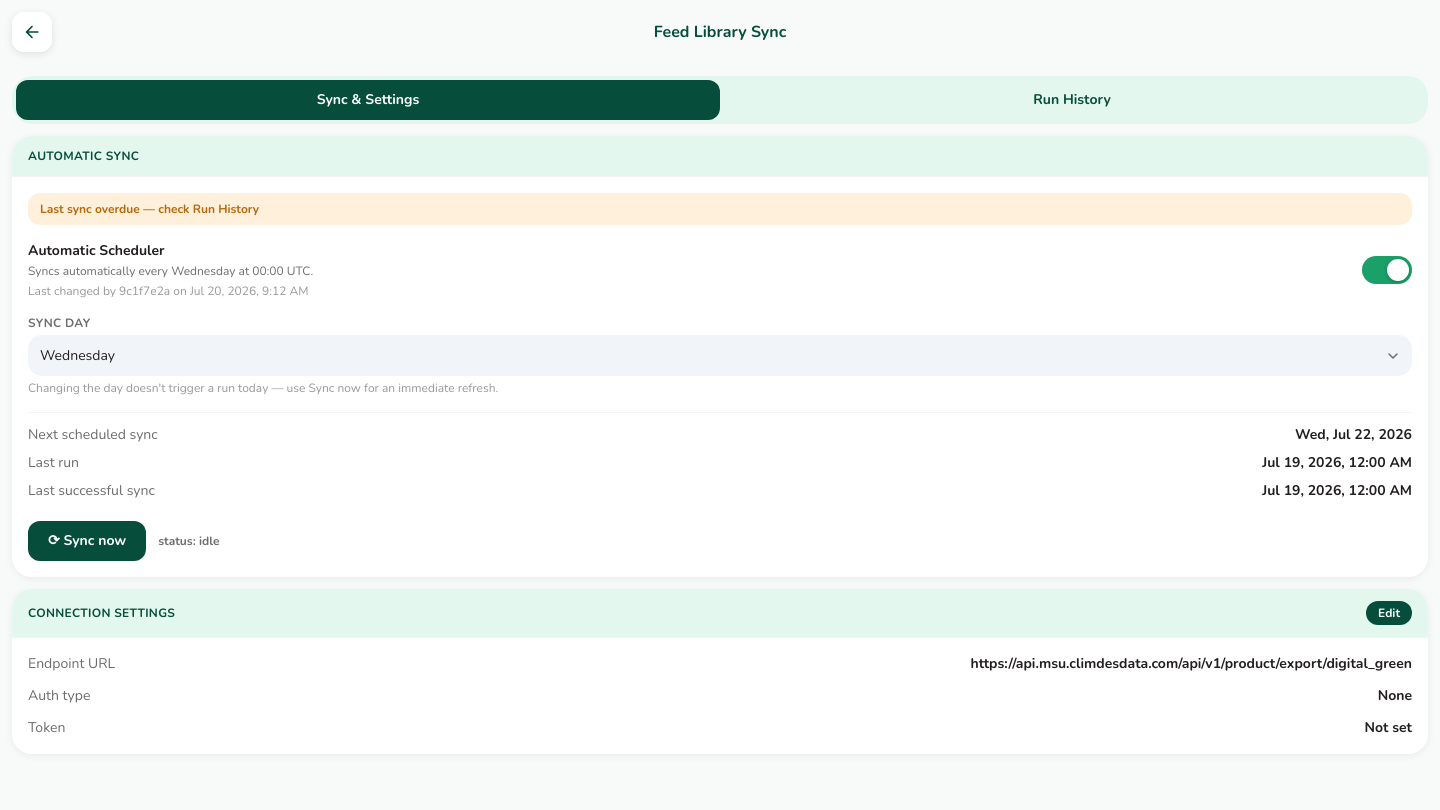
Test: Admin Feed Library Sync — Run History tab › lists runs newest-first with a status chip and rolled-up counts
The image size is (1440, 810).
Expected: the text "Automatic Scheduler" is shown, [28,241,165,260]
Click the button "Run History". click: (1072, 100)
box: [720,80,1424,120]
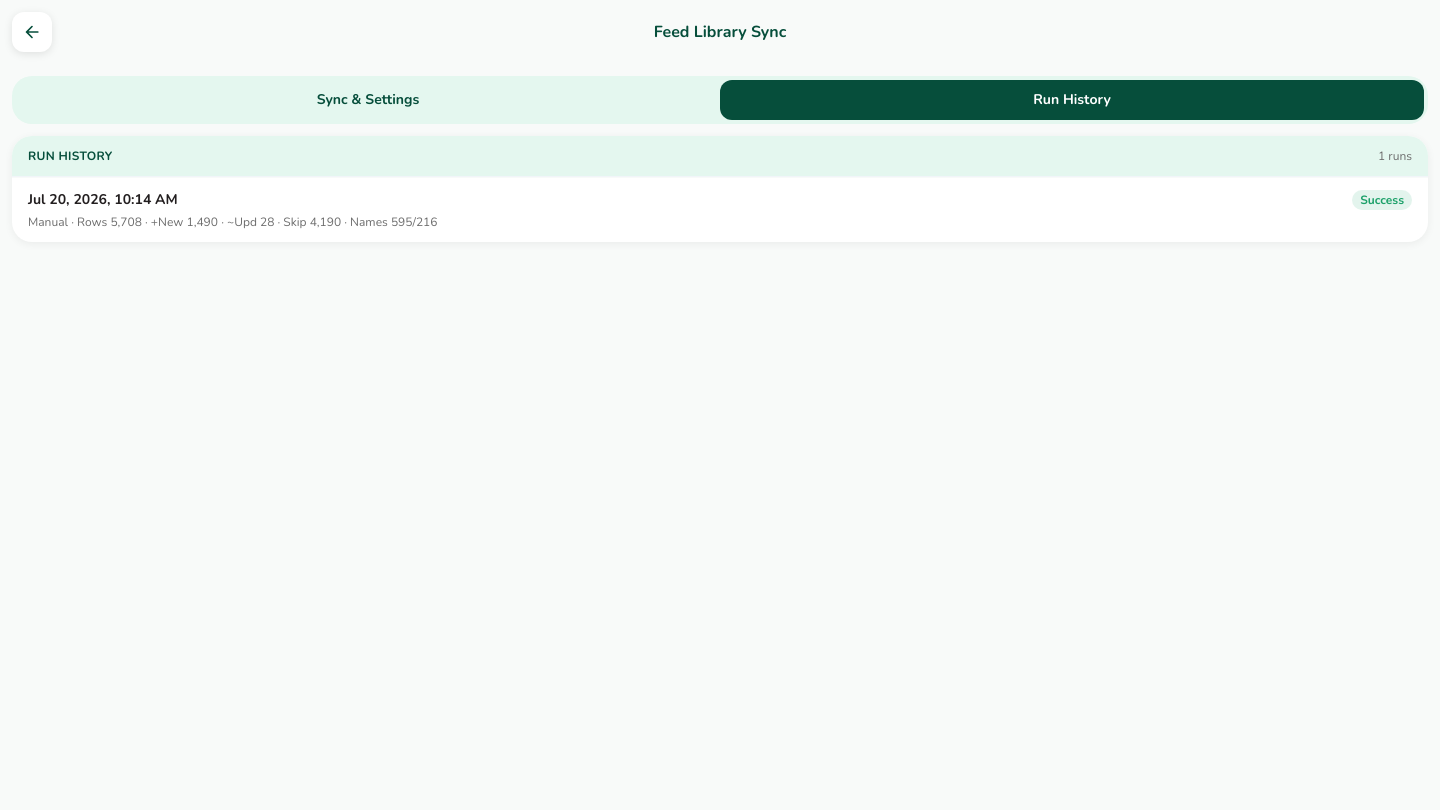
Now the text "Success" is shown, box [1352,190,1412,210]
Now the text "Rows 5,708 · +New 1,490 · ~Upd 28 · Skip 4,190 · Names 595/216" is shown, box [28,214,438,230]
